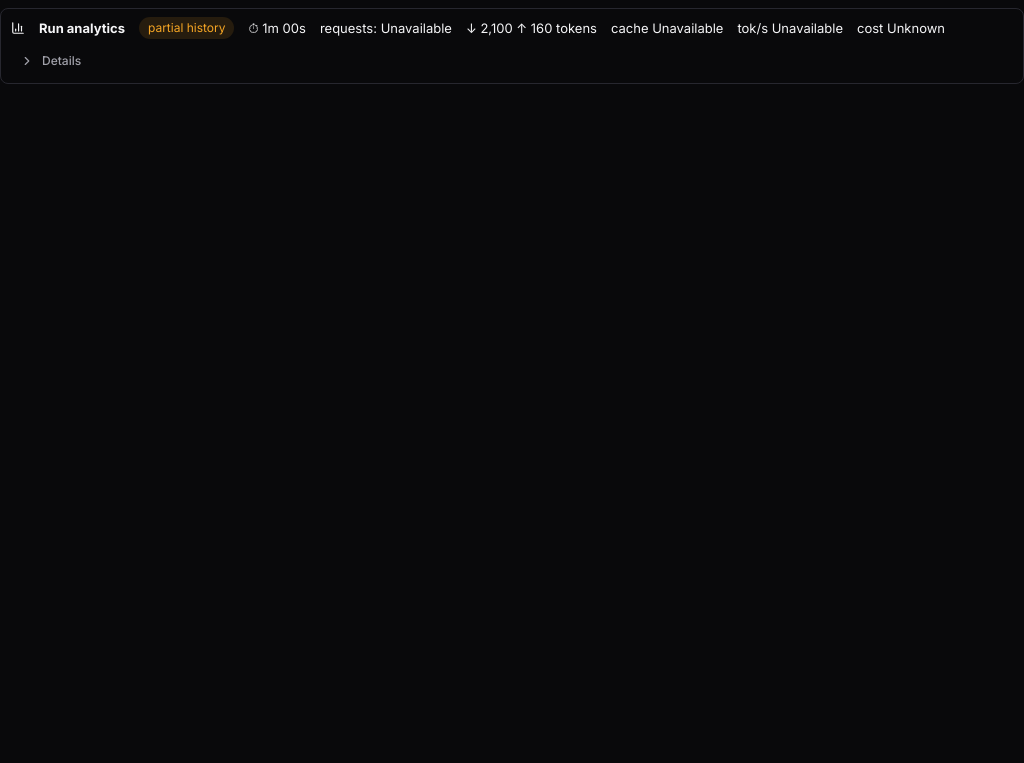
Test: Run Analytics (M4.6) › an older run shows what its record held and Unavailable for the rest, never zero
The width and height of the screenshot is (1024, 763).
Expected: the text "partial history" is shown, [139,17,234,39]
Expected: the text "requests: Unavailable" is shown, [320,19,452,37]
Click the button "Details". click: x=51, y=61
box: [11,47,90,75]
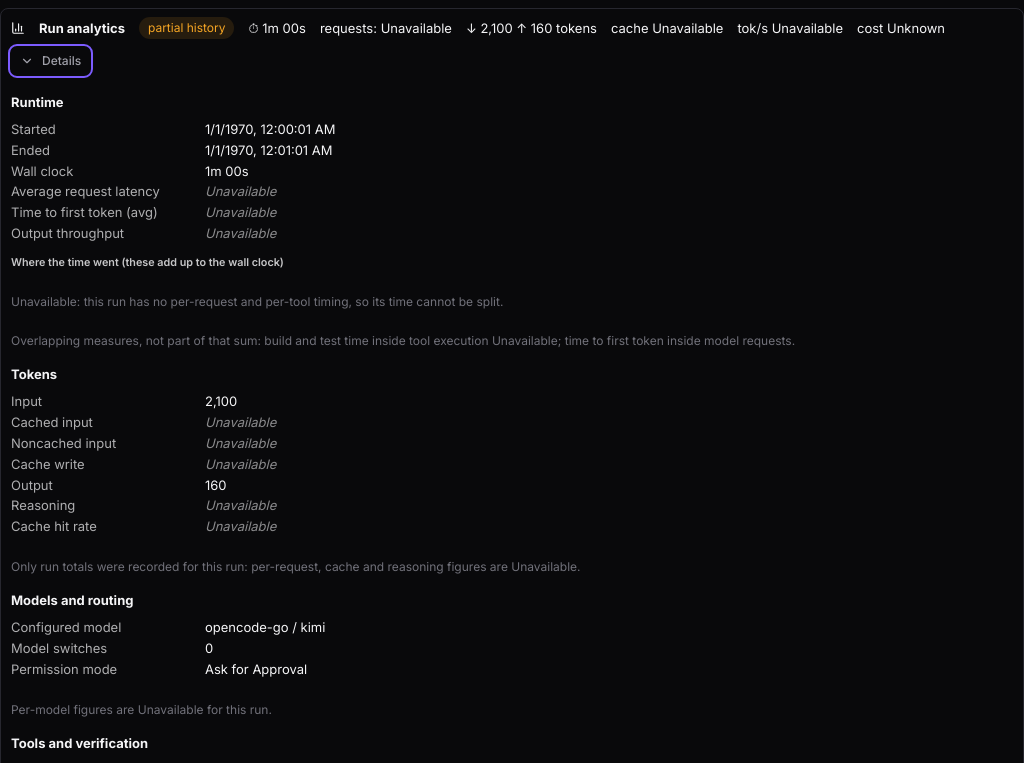
Now the text "this run has no per-request and per-tool timing" is shown, box [11,294,503,308]
Now the text "Only run totals were recorded" is shown, box [11,559,580,574]
Now the text "Per-model figures are Unavailable for this run." is shown, box [11,702,272,717]
